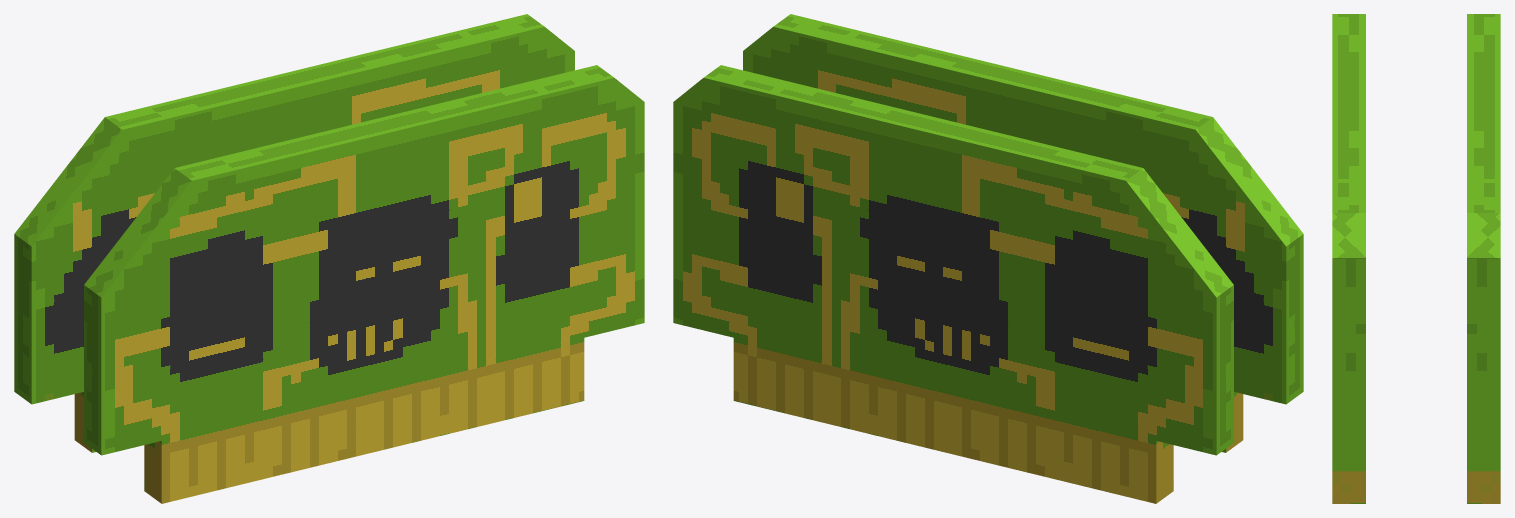
File: Door.glb
3 views of the same model, side by side, from view 1: azimuth 30°, elevation 25°; view 2: azimuth 150°, elevation 25°; view 3: azimuth 270°, elevation 25° (orthographic). The views are drawn at different scales.
Visible parts, largest first — view 1: Door; view 2: Door; view 3: Door.
Boxes of the visible parts, left/top/right/bottom form: Door: left=14, top=14, right=644, bottom=503; Door: left=673, top=14, right=1303, bottom=503; Door: left=1332, top=14, right=1500, bottom=503.
Bounding box in the file's own units: 1.8 × 1 × 0.5.
1 material, 1 textured.
